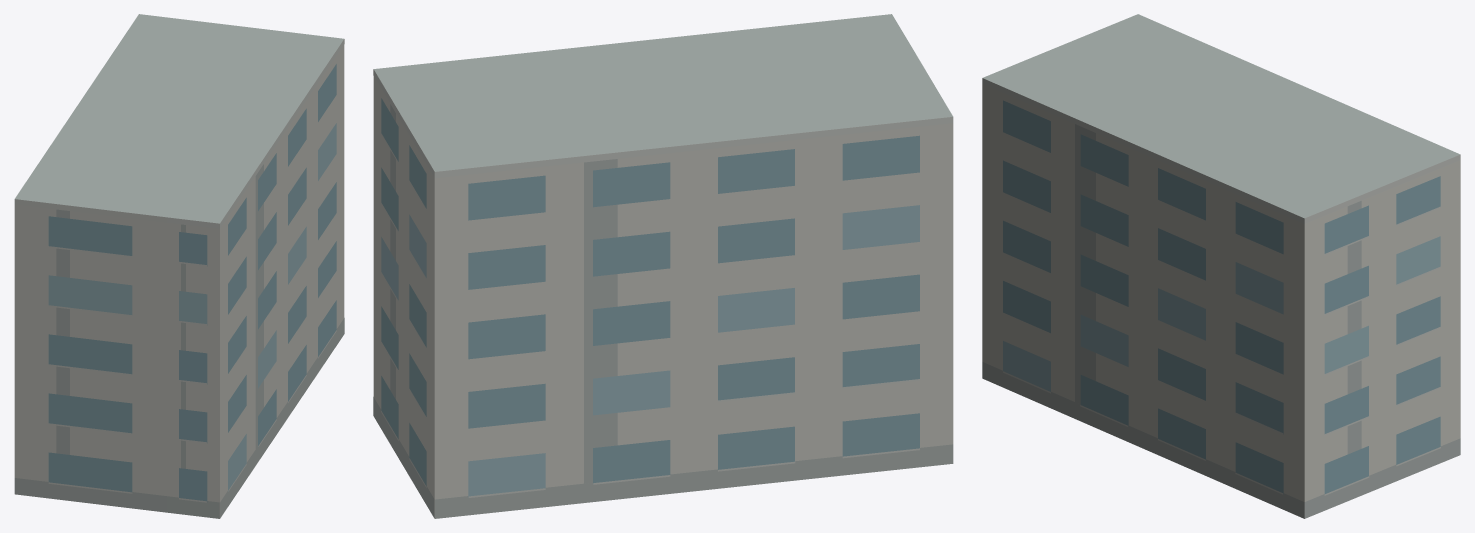
The model's file is residential-0a72d24d-6e1c-4a0e-b942-ec753fbf146e.glb.
The picture shows the model from 3 angles, left to right: view 1: azimuth 30°, elevation 25°; view 2: azimuth 150°, elevation 25°; view 3: azimuth 270°, elevation 25°; orthographic projection. The views are drawn at different scales.
Visible parts, largest first — view 1: residential-0a72d24d-6e1c-4a0e-b942-ec753fbf146e.tmp; view 2: residential-0a72d24d-6e1c-4a0e-b942-ec753fbf146e.tmp; view 3: residential-0a72d24d-6e1c-4a0e-b942-ec753fbf146e.tmp.
Part boxes in pixels (box(x1,y1,x2,y2)): residential-0a72d24d-6e1c-4a0e-b942-ec753fbf146e.tmp: box(14, 14, 344, 518); residential-0a72d24d-6e1c-4a0e-b942-ec753fbf146e.tmp: box(373, 14, 953, 518); residential-0a72d24d-6e1c-4a0e-b942-ec753fbf146e.tmp: box(982, 14, 1460, 518).
Bounding box in the file's own units: 19.19 × 13.15 × 18.98.
